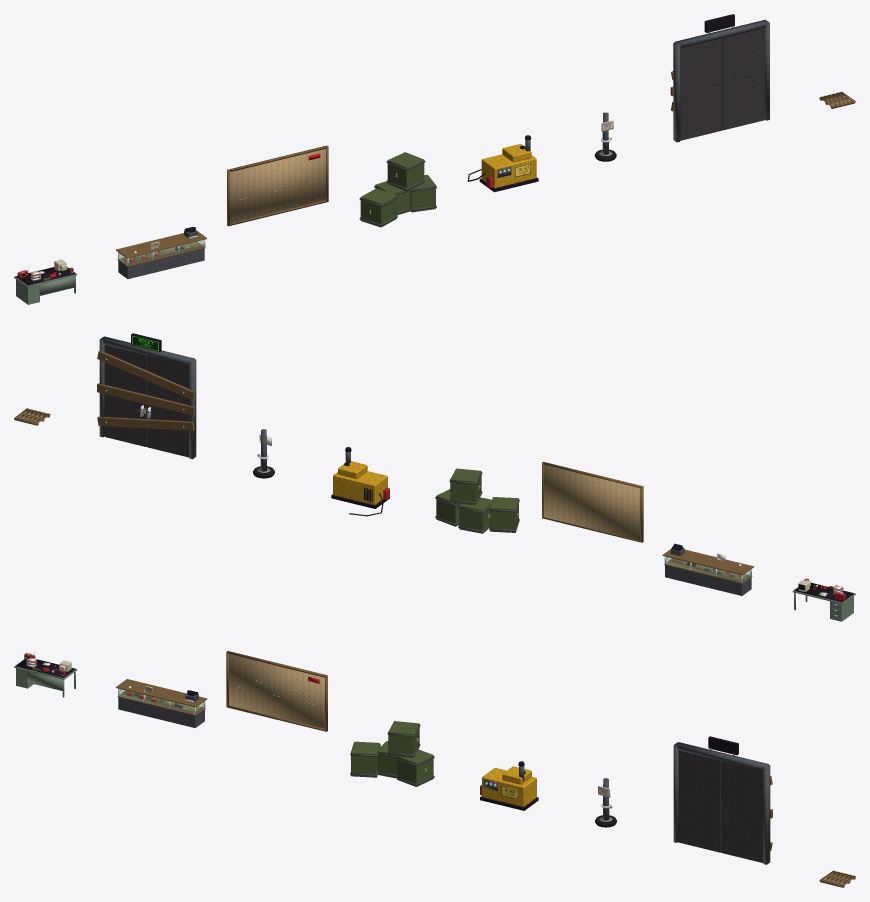
The model's file is x_lobby_whprops.glb.
3 renders of one model, top to bottom at view 1: azimuth 30°, elevation 25°; view 2: azimuth 150°, elevation 25°; view 3: azimuth 330°, elevation 25°, orthographic.
Parts seen in each view (by area): view 1: door, pegboard, crates, counter, generator, desk; view 2: door, pegboard, crates, counter, generator, desk; view 3: door, pegboard, crates, counter, generator, desk, post.
Part boxes in pixels (x1,y1,x2,y2): door: (670,14,769,142); pegboard: (227,145,328,226); crates: (359,152,436,227); counter: (116,227,207,278); generator: (467,135,538,192); desk: (14,259,77,304); door: (97,333,196,459); pegboard: (542,462,643,542); crates: (435,468,519,533); counter: (662,543,753,595); generator: (331,447,389,516); desk: (792,578,855,621); door: (673,736,772,864); pegboard: (226,651,327,731); crates: (350,721,434,786); counter: (116,679,207,727); generator: (480,761,538,810); desk: (14,657,77,697); post: (595,778,616,827).
Size of the model in its own units: 42.91 by 5.47 by 3.13.
Materials: 18 (10 with a texture image).
